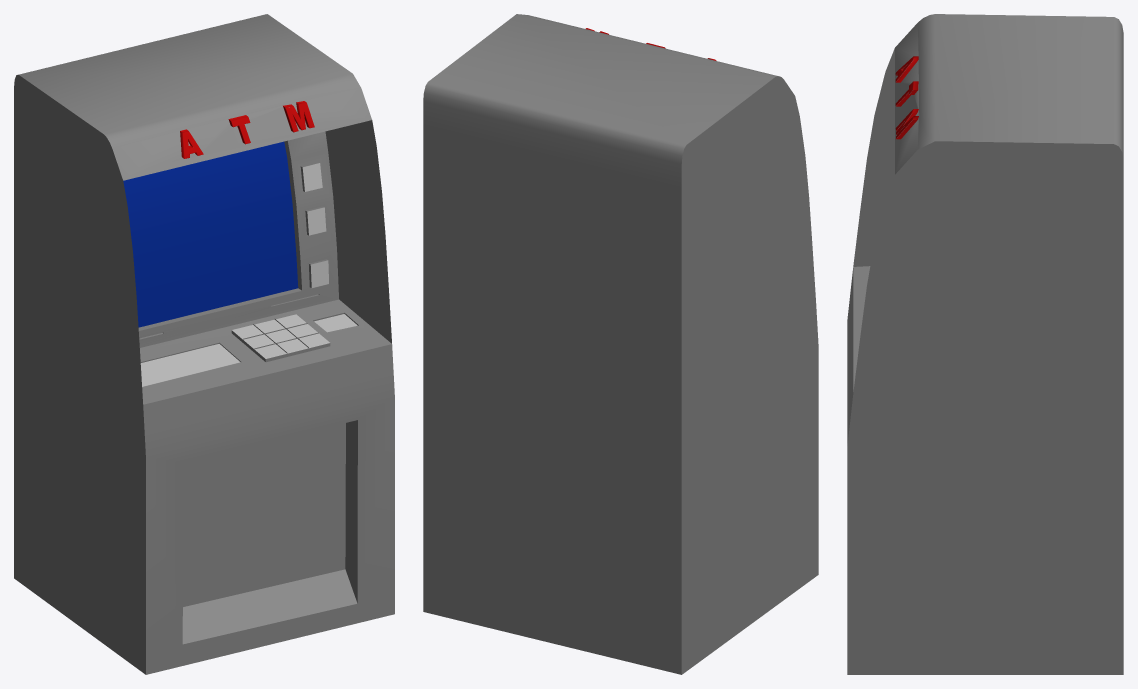
File: ATM Keuangan.fbx
The picture shows the model from 3 angles, left to right: view 1: azimuth 30°, elevation 25°; view 2: azimuth 150°, elevation 25°; view 3: azimuth 270°, elevation 25°; orthographic projection. The views are drawn at different scales.
Parts seen in each view (by area): view 1: Cube; view 2: Cube; view 3: Cube.
Part boxes in pixels (left/top/right/bottom): Cube: left=14, top=14, right=394, bottom=674; Cube: left=423, top=14, right=818, bottom=674; Cube: left=847, top=14, right=1123, bottom=674.
Bounding box in the file's own units: 57.09 × 112 × 52.38.
